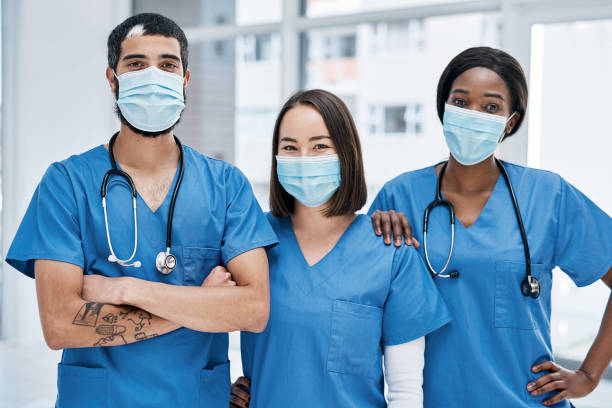with mask: (97, 16, 199, 138), (273, 84, 363, 217), (427, 55, 524, 167)
